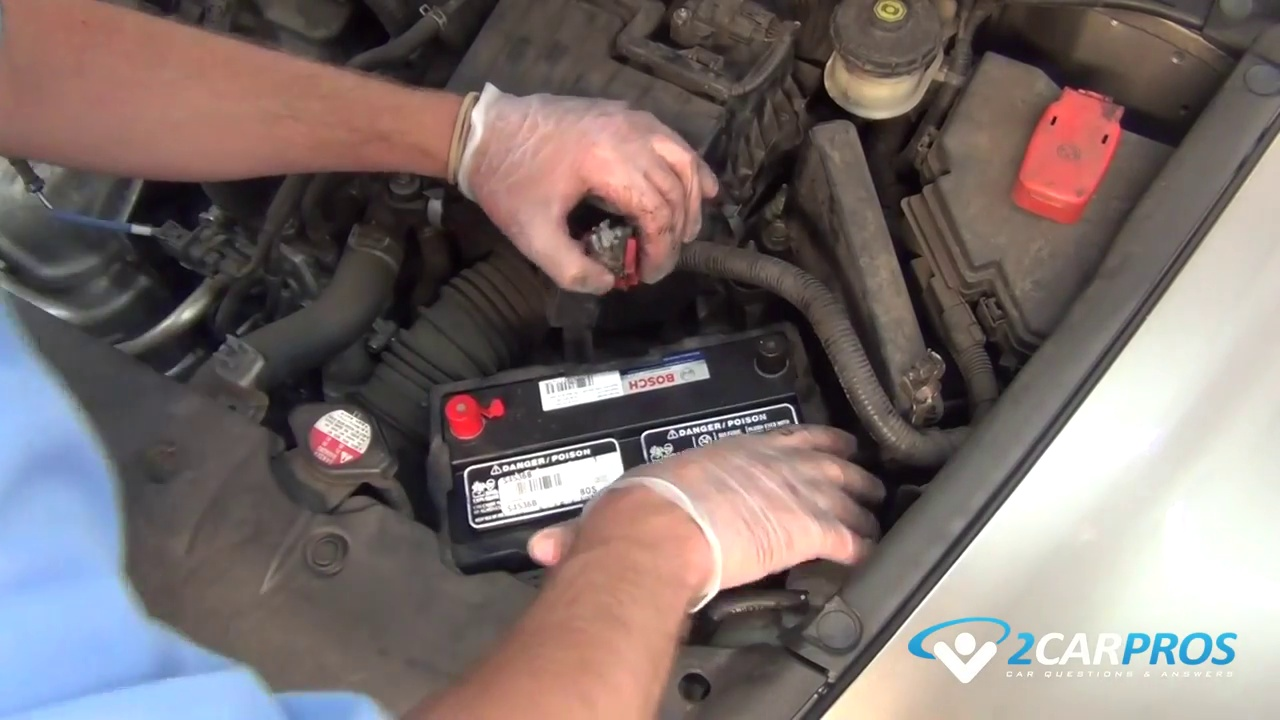battery: (428, 331, 839, 572)
neg_disconnected: (715, 305, 802, 392)
pos_disconnected: (431, 352, 524, 452)
